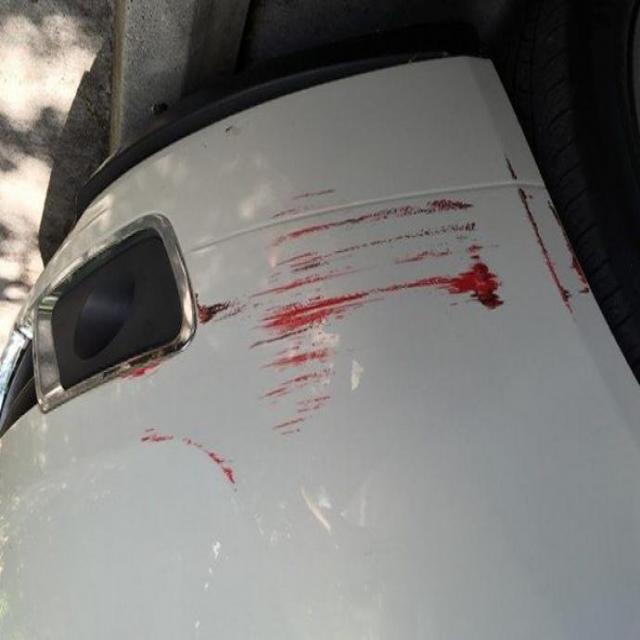scratch: (272, 143, 594, 434), (100, 252, 242, 389), (114, 403, 264, 501)
